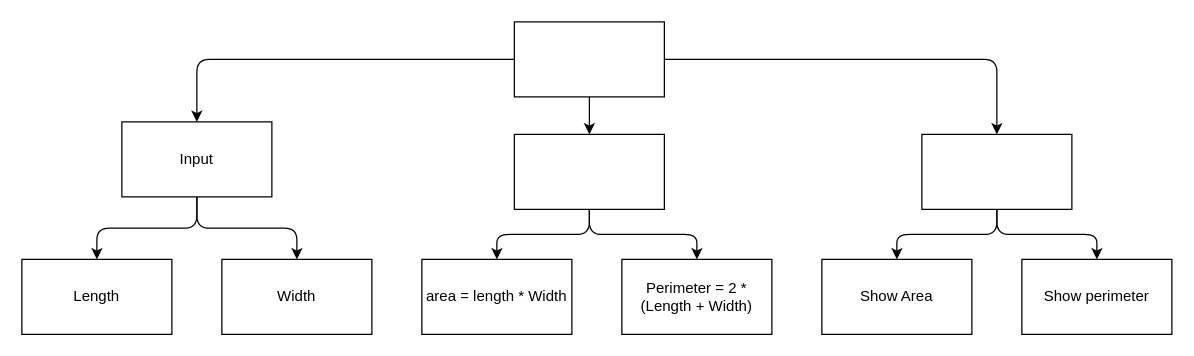
The diagram is 1194 pixels wide and 356 high, and some of its shapes have lost their labels. The shapes that lost their labels are listed below. From the top down, each one's centre as x and y in pixels, then its label:
the point at 588,59: Area & Perimeter
the point at 588,171: Process
the point at 996,171: Output
